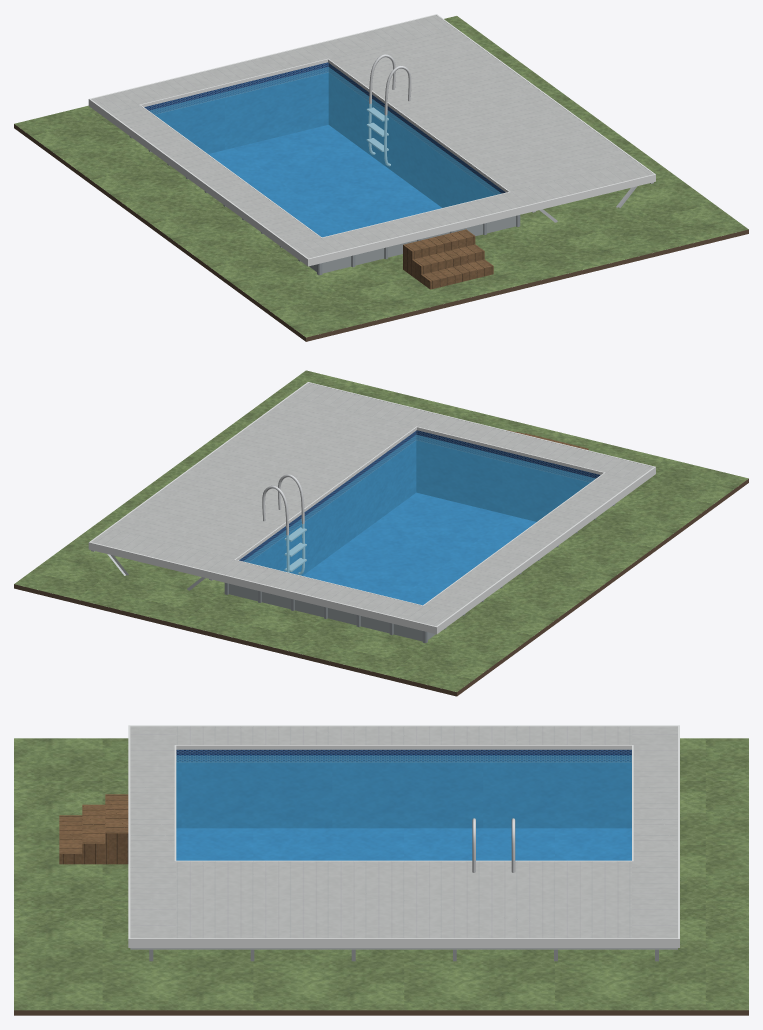
The model's file is kayak-pool-12x20-gray-side-rec-nofence.49bc42a6b5.glb.
The picture shows the model from 3 angles, top to bottom: view 1: azimuth 30°, elevation 25°; view 2: azimuth 150°, elevation 25°; view 3: azimuth 270°, elevation 25°; orthographic projection. The views are drawn at different scales.
Parts seen in each view (by area): view 1: ground, deck, water, liner_wall, liner_floor, fascia, steps, soil, wall, steel; view 2: ground, deck, water, liner_wall, liner_floor, fascia, soil, wall, steel; view 3: ground, deck, water, liner_wall, liner_floor, fascia, soil, steps, stud, steel.
Part boxes in pixels (box(x1,y1,x2,y2)): ground: box(14, 16, 748, 337); deck: box(91, 15, 653, 258); water: box(149, 67, 500, 237); liner_wall: box(144, 62, 505, 207); liner_floor: box(208, 125, 441, 237); fascia: box(88, 14, 655, 266); steps: box(403, 229, 493, 289); soil: box(14, 124, 748, 341); wall: box(309, 216, 516, 273); steel: box(366, 54, 411, 166); ground: box(14, 370, 748, 691); deck: box(91, 383, 653, 626); water: box(243, 434, 595, 605); liner_wall: box(239, 430, 600, 575); liner_floor: box(303, 492, 536, 605); fascia: box(88, 382, 655, 634); soil: box(14, 479, 748, 696); wall: box(228, 583, 435, 641); steel: box(262, 474, 306, 574); ground: box(14, 738, 748, 1010); deck: box(130, 726, 677, 938); water: box(176, 755, 631, 860); liner_wall: box(176, 749, 631, 828); liner_floor: box(176, 828, 631, 860); fascia: box(128, 725, 679, 947); soil: box(14, 1010, 748, 1015); steps: box(59, 794, 128, 864); stud: box(130, 948, 677, 961); steel: box(472, 818, 515, 872).
Size of the model in its own units: 8.53 by 1.9 by 9.75.
12 materials, 5 textured.
